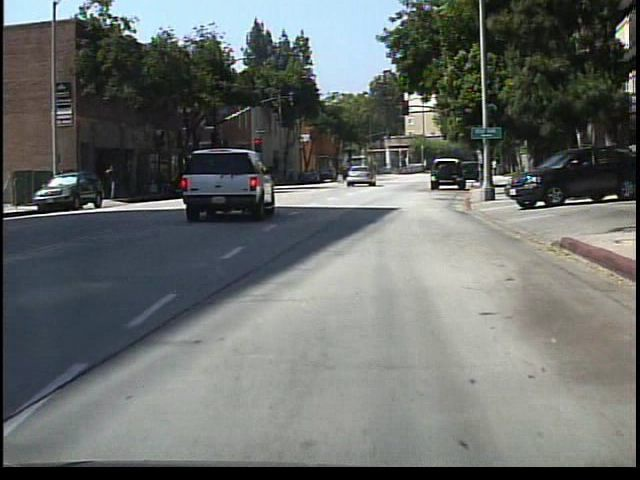person: (104, 160, 124, 201), (487, 154, 502, 180), (334, 164, 347, 187)
